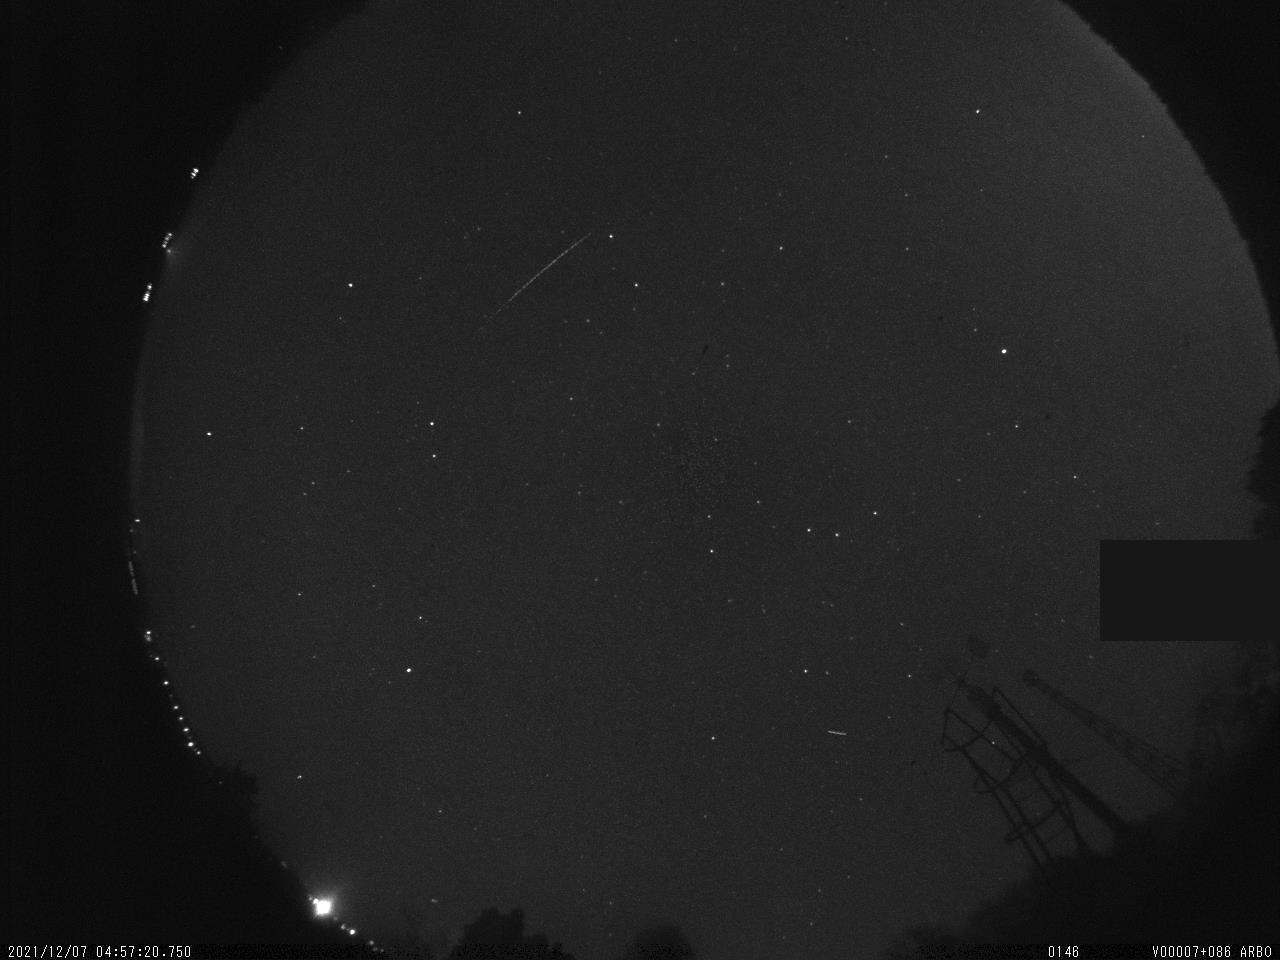meteor: (498, 226, 597, 324)
